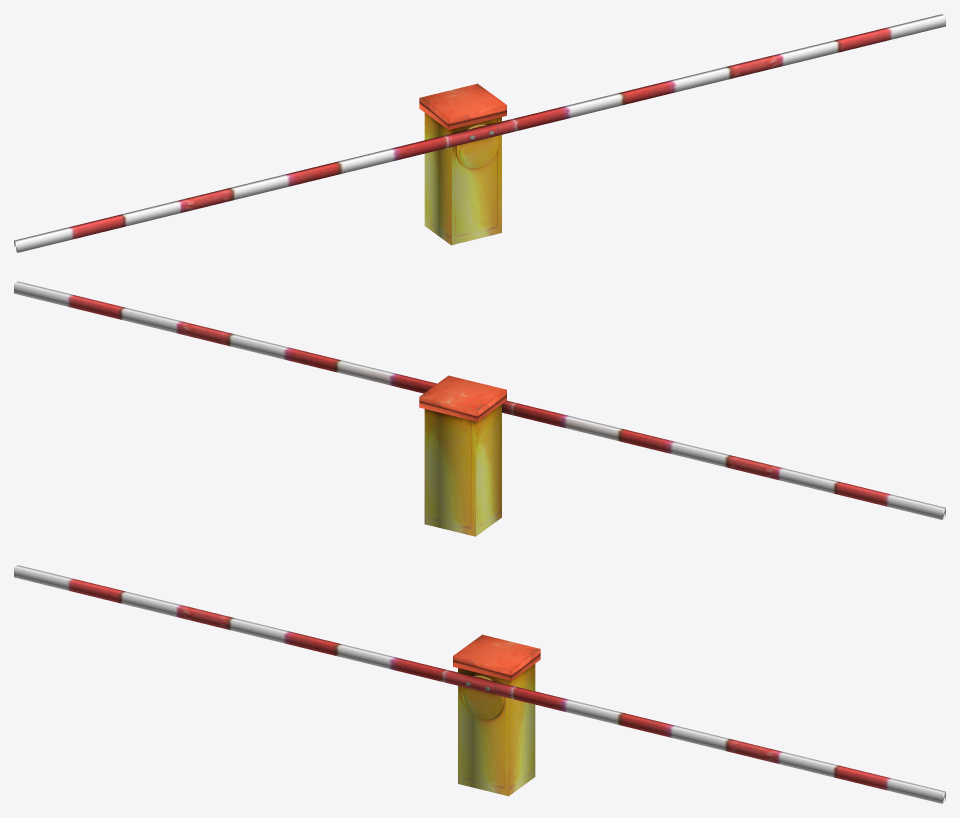
File: schranken.fbx
3 renders of one model, top to bottom at view 1: azimuth 30°, elevation 25°; view 2: azimuth 150°, elevation 25°; view 3: azimuth 330°, elevation 25°, orthographic.
Parts seen in each view (by area): view 1: Mesh_ncl1_1, Mesh; view 2: Mesh, Mesh_ncl1_1; view 3: Mesh_ncl1_1, Mesh.
Boxes of the visible parts, left/top/right/bottom form: Mesh_ncl1_1: left=14, top=83, right=506, bottom=252; Mesh: left=419, top=14, right=945, bottom=245; Mesh: left=14, top=281, right=506, bottom=536; Mesh_ncl1_1: left=419, top=375, right=945, bottom=523; Mesh_ncl1_1: left=14, top=565, right=540, bottom=796; Mesh: left=453, top=634, right=945, bottom=803.
Bounding box in the file's own units: 1223 × 167 × 76.97.
